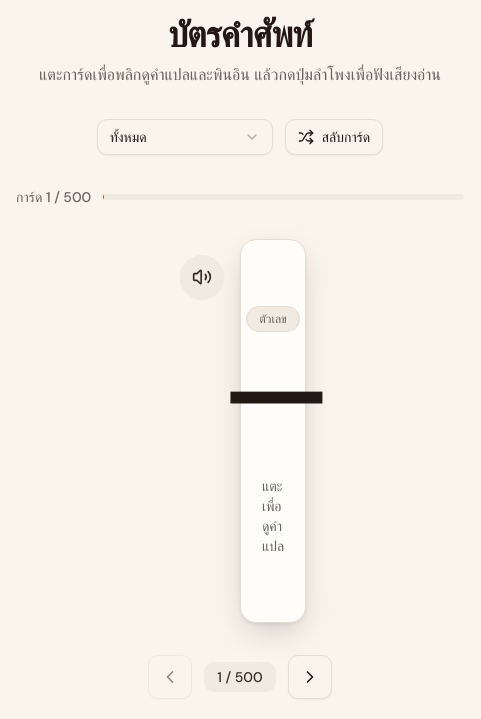
Test: FlashcardsPage › navigates backward to the previous card
Click the button named "การ์ดถัดไป": (310, 677) top-left (288, 655), bottom-right (332, 699)
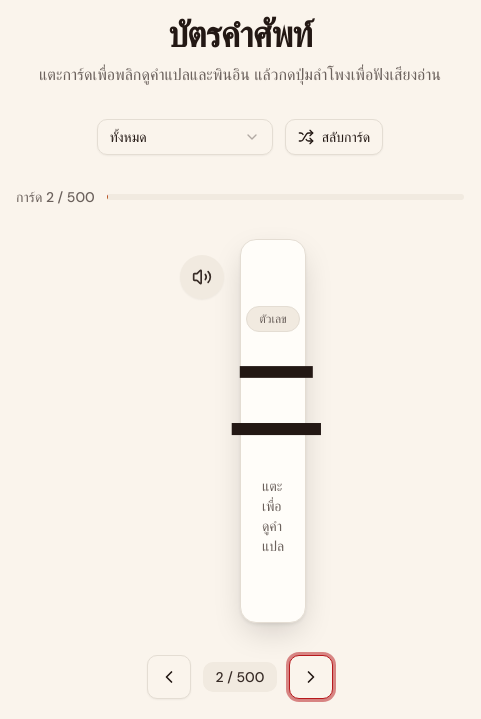
Click the button named "การ์ดก่อนหน้า": (169, 677) top-left (147, 655), bottom-right (191, 699)
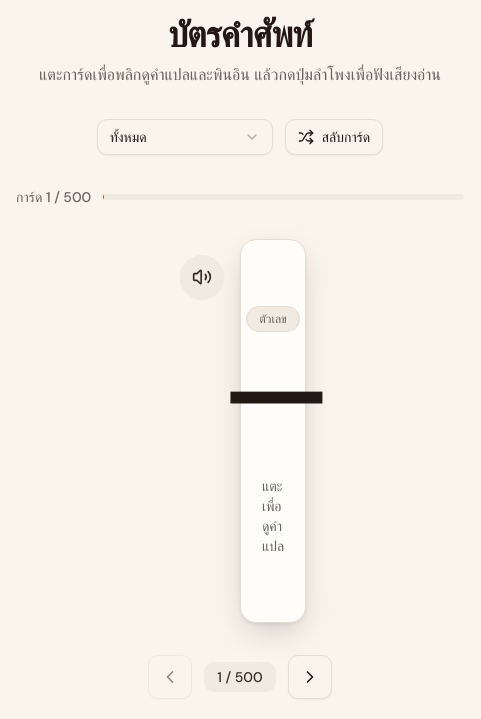
Expected: the text "การ์ด 1 / 500" is shown, top-left (16, 187), bottom-right (91, 207)
